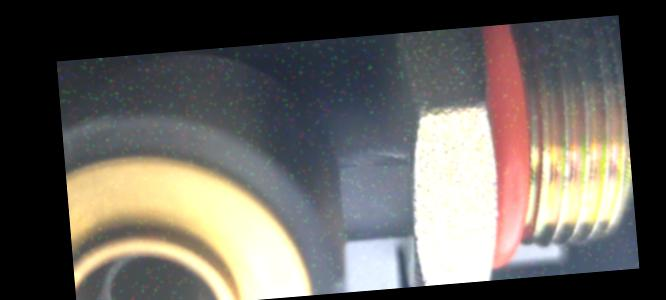joint line: (339, 161, 405, 173)
white mark: (360, 148, 410, 162)
